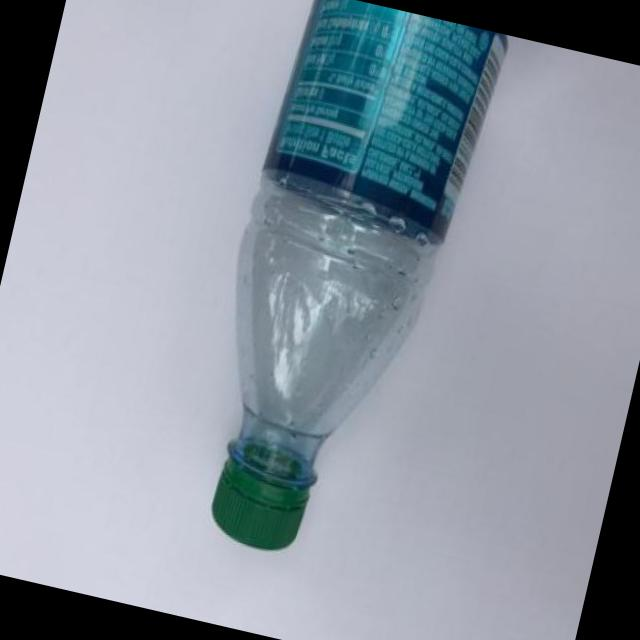plastic_bottle: (172, 0, 514, 580)
